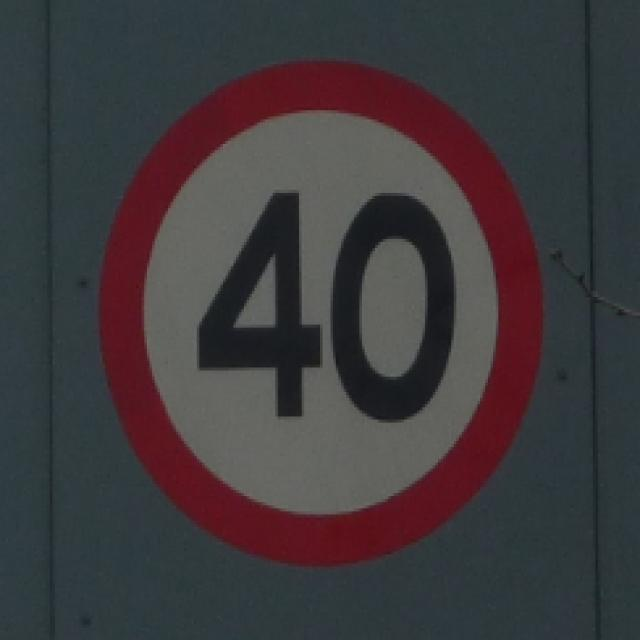Speed: (98, 56, 543, 585)
